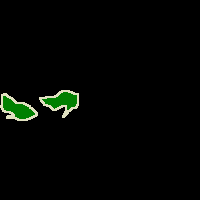shoe: (40, 90, 78, 117), (1, 94, 37, 120)
